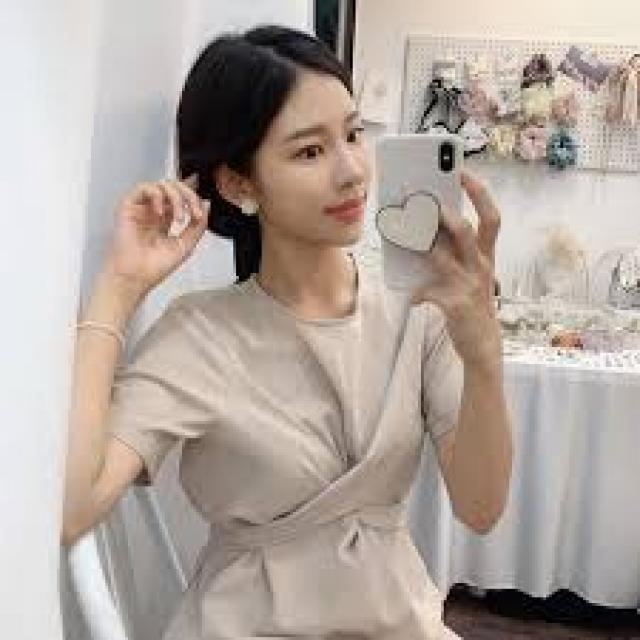Phone: (372, 134, 466, 304)
